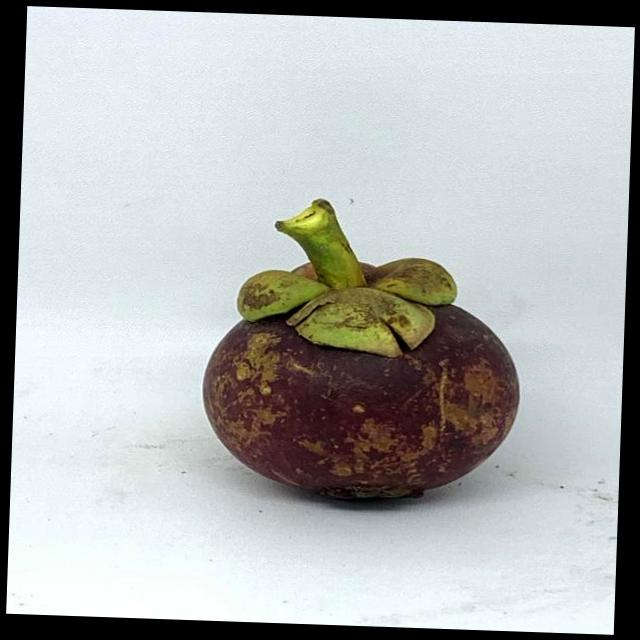mangosteen: (193, 175, 533, 528)
